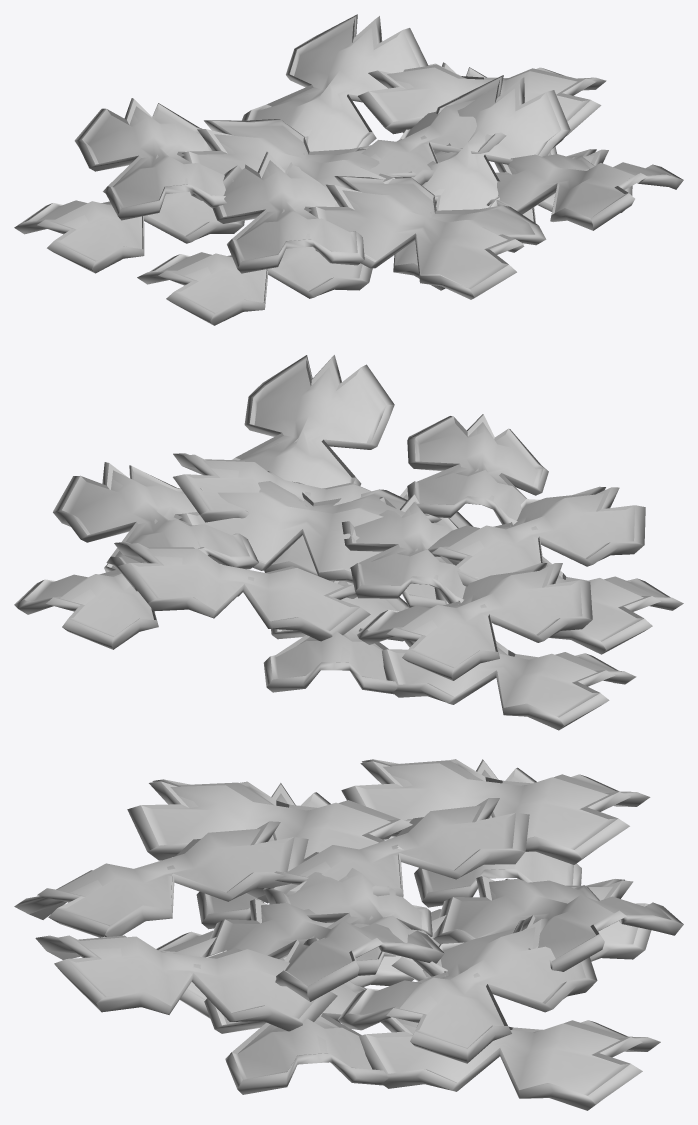
File: HotPasta.fbx
3 views of the same model, one above another, from view 1: azimuth 30°, elevation 25°; view 2: azimuth 150°, elevation 25°; view 3: azimuth 270°, elevation 25° (orthographic). The views are drawn at different scales.
Parts seen in each view (by area): view 1: HotPasta; view 2: HotPasta; view 3: HotPasta.
Boxes of the visible parts, box(x1,y1,x2,y2) form: HotPasta: box(14, 14, 683, 325); HotPasta: box(14, 355, 683, 730); HotPasta: box(14, 759, 683, 1110).
Bounding box in the file's own units: 1.31 × 0.238 × 1.13.
